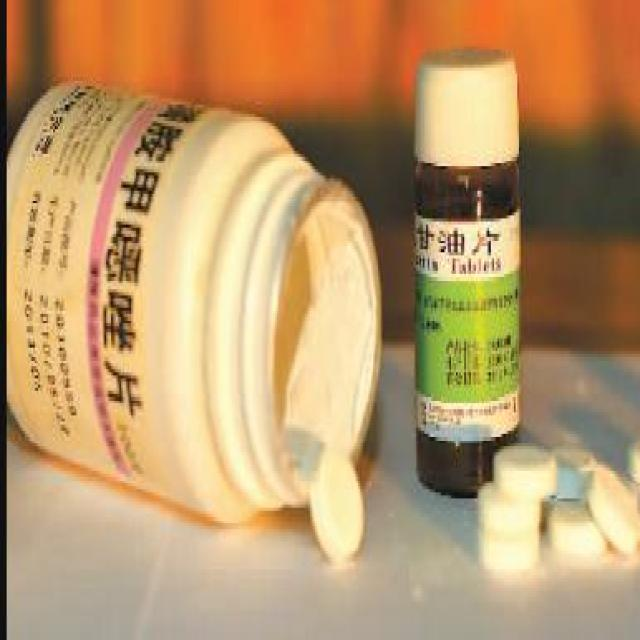-Recyclables - plastic bottle-: (7, 81, 381, 530), (415, 49, 520, 499)
